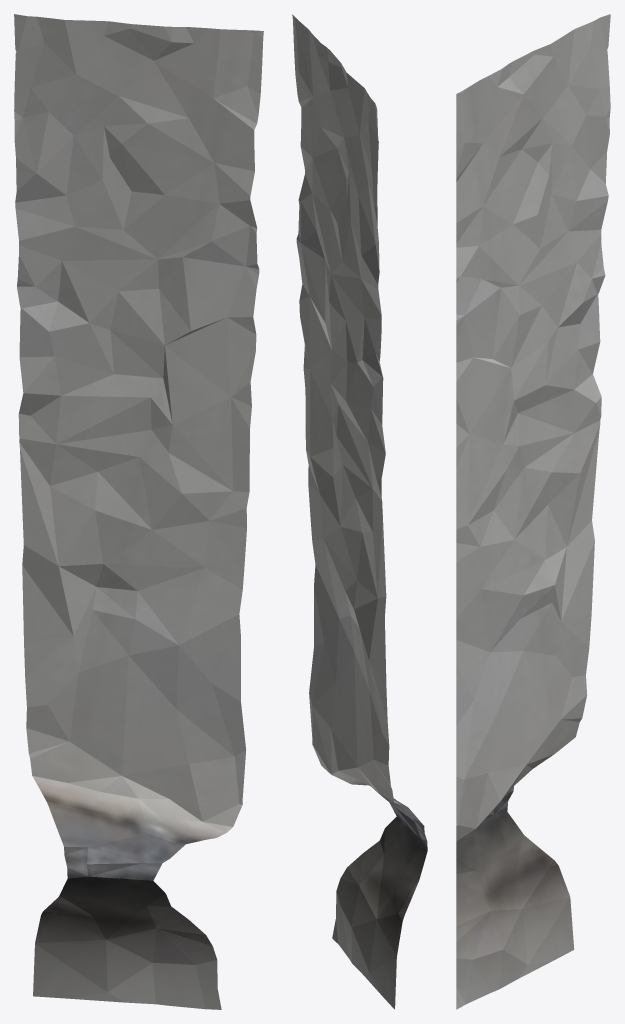
3 renders of one model, left to right at view 1: azimuth 30°, elevation 25°; view 2: azimuth 150°, elevation 25°; view 3: azimuth 270°, elevation 25°, orthographic. The views are drawn at different scales.
Size of the model in its own units: 0.1537 by 0.8373 by 0.1254.
1 material, 1 textured.
